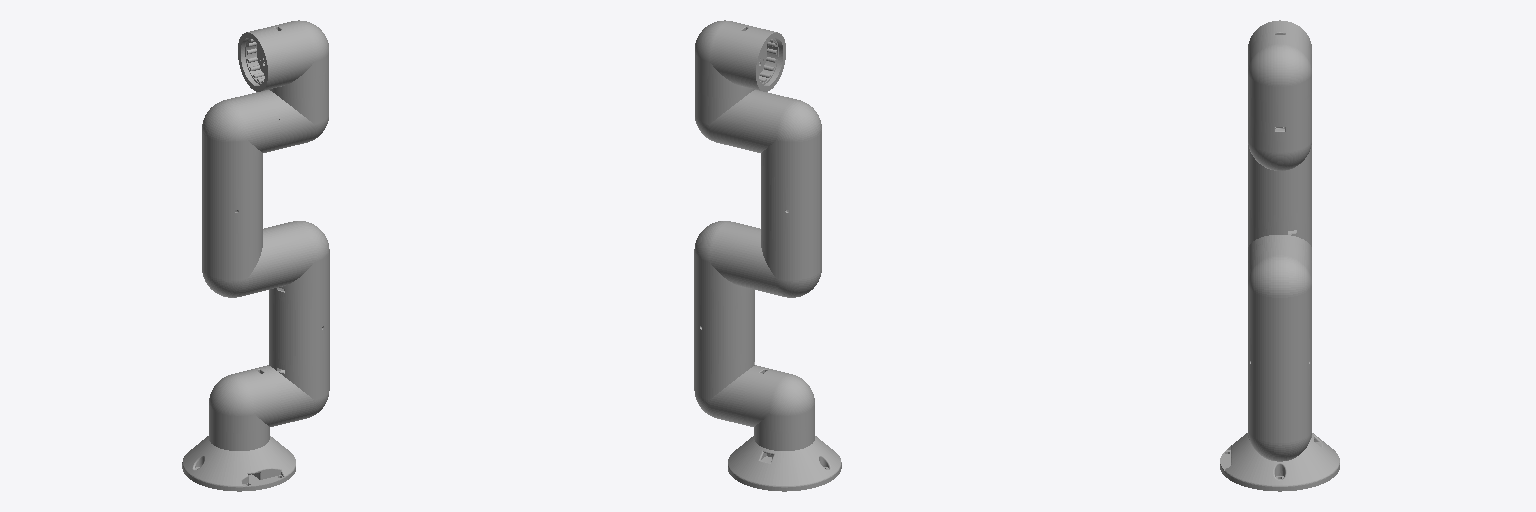
URDF robot description (6dof):
<?xml version="1.0" ?>
<robot name="6dof">

<material name="silver">
  <color rgba="0.700 0.700 0.700 1.000"/>
</material>

<link name="base_link">
  <inertial>
    <origin xyz="0.0005722199975482752 0.004245800700454947 0.016568477430291967" rpy="0 0 0"/>
    <mass value="0.3701294923763933"/>
    <inertia ixx="0.000519" iyy="0.000543" izz="0.000945" ixy="3e-06" iyz="4e-06" ixz="0.0"/>
  </inertial>
  <visual>
    <origin xyz="0 0 0" rpy="0 0 0"/>
    <geometry>
      <mesh filename="package://6dof_description/meshes/base_link.stl" scale="0.001 0.001 0.001"/>
    </geometry>
    <material name="silver"/>
  </visual>
  <collision>
    <origin xyz="0 0 0" rpy="0 0 0"/>
    <geometry>
      <mesh filename="package://6dof_description/meshes/base_link.stl" scale="0.001 0.001 0.001"/>
    </geometry>
  </collision>
</link>

<link name="r_a_1">
  <inertial>
    <origin xyz="0.010425618761527602 0.0009926626669589911 0.03864859993028837" rpy="0 0 0"/>
    <mass value="0.17693816222578793"/>
    <inertia ixx="0.000227" iyy="0.000235" izz="0.00022" ixy="-1e-06" iyz="-1e-06" ixz="-2.3e-05"/>
  </inertial>
  <visual>
    <origin xyz="-0.0 -0.002984 -0.041554" rpy="0 0 0"/>
    <geometry>
      <mesh filename="package://6dof_description/meshes/r_a_1.stl" scale="0.001 0.001 0.001"/>
    </geometry>
    <material name="silver"/>
  </visual>
  <collision>
    <origin xyz="-0.0 -0.002984 -0.041554" rpy="0 0 0"/>
    <geometry>
      <mesh filename="package://6dof_description/meshes/r_a_1.stl" scale="0.001 0.001 0.001"/>
    </geometry>
  </collision>
</link>

<link name="link_1">
  <inertial>
    <origin xyz="0.0362299468747642 1.3495541677207516e-05 0.10093907219024545" rpy="0 0 0"/>
    <mass value="0.42379993240155933"/>
    <inertia ixx="0.003229" iyy="0.003244" izz="0.000556" ixy="0.0" iyz="0.0" ixz="4.5e-05"/>
  </inertial>
  <visual>
    <origin xyz="-0.04 -0.002984 -0.092054" rpy="0 0 0"/>
    <geometry>
      <mesh filename="package://6dof_description/meshes/link_1.stl" scale="0.001 0.001 0.001"/>
    </geometry>
    <material name="silver"/>
  </visual>
  <collision>
    <origin xyz="-0.04 -0.002984 -0.092054" rpy="0 0 0"/>
    <geometry>
      <mesh filename="package://6dof_description/meshes/link_1.stl" scale="0.001 0.001 0.001"/>
    </geometry>
  </collision>
</link>

<link name="link__1__1">
  <inertial>
    <origin xyz="-0.03622994687477521 -1.3274643730027368e-05 0.10093907219023918" rpy="0 0 0"/>
    <mass value="0.42379993240155933"/>
    <inertia ixx="0.003229" iyy="0.003244" izz="0.000556" ixy="0.0" iyz="-0.0" ixz="-4.5e-05"/>
  </inertial>
  <visual>
    <origin xyz="-0.04 -0.002984 -0.292054" rpy="0 0 0"/>
    <geometry>
      <mesh filename="package://6dof_description/meshes/link__1__1.stl" scale="0.001 0.001 0.001"/>
    </geometry>
    <material name="silver"/>
  </visual>
  <collision>
    <origin xyz="-0.04 -0.002984 -0.292054" rpy="0 0 0"/>
    <geometry>
      <mesh filename="package://6dof_description/meshes/link__1__1.stl" scale="0.001 0.001 0.001"/>
    </geometry>
  </collision>
</link>

<link name="r_a__1__1">
  <inertial>
    <origin xyz="0.03864887449338581 -0.0009924417690017292 0.010425344198421005" rpy="0 0 0"/>
    <mass value="0.17693816222578793"/>
    <inertia ixx="0.00022" iyy="0.000235" izz="0.000227" ixy="1e-06" iyz="1e-06" ixz="-2.3e-05"/>
  </inertial>
  <visual>
    <origin xyz="-0.04 -0.002984 -0.492054" rpy="0 0 0"/>
    <geometry>
      <mesh filename="package://6dof_description/meshes/r_a__1__1.stl" scale="0.001 0.001 0.001"/>
    </geometry>
    <material name="silver"/>
  </visual>
  <collision>
    <origin xyz="-0.04 -0.002984 -0.492054" rpy="0 0 0"/>
    <geometry>
      <mesh filename="package://6dof_description/meshes/r_a__1__1.stl" scale="0.001 0.001 0.001"/>
    </geometry>
  </collision>
</link>

<link name="r_a__2__1">
  <inertial>
    <origin xyz="-0.010425618761524535 -0.0009924417689934207 0.03864859993027925" rpy="0 0 0"/>
    <mass value="0.17693816222578793"/>
    <inertia ixx="0.000227" iyy="0.000235" izz="0.00022" ixy="-1e-06" iyz="1e-06" ixz="2.3e-05"/>
  </inertial>
  <visual>
    <origin xyz="-0.0905 -0.002984 -0.532054" rpy="0 0 0"/>
    <geometry>
      <mesh filename="package://6dof_description/meshes/r_a__2__1.stl" scale="0.001 0.001 0.001"/>
    </geometry>
    <material name="silver"/>
  </visual>
  <collision>
    <origin xyz="-0.0905 -0.002984 -0.532054" rpy="0 0 0"/>
    <geometry>
      <mesh filename="package://6dof_description/meshes/r_a__2__1.stl" scale="0.001 0.001 0.001"/>
    </geometry>
  </collision>
</link>

<link name="housing_1">
  <inertial>
    <origin xyz="-0.01354229215039466 1.104489911183705e-07 -2.74563103364045e-07" rpy="0 0 0"/>
    <mass value="0.07053541004202112"/>
    <inertia ixx="8.5e-05" iyy="4.8e-05" izz="4.8e-05" ixy="-0.0" iyz="-0.0" ixz="0.0"/>
  </inertial>
  <visual>
    <origin xyz="-0.0505 -0.002984 -0.582554" rpy="0 0 0"/>
    <geometry>
      <mesh filename="package://6dof_description/meshes/housing_1.stl" scale="0.001 0.001 0.001"/>
    </geometry>
    <material name="silver"/>
  </visual>
  <collision>
    <origin xyz="-0.0505 -0.002984 -0.582554" rpy="0 0 0"/>
    <geometry>
      <mesh filename="package://6dof_description/meshes/housing_1.stl" scale="0.001 0.001 0.001"/>
    </geometry>
  </collision>
</link>

<joint name="Revolute_1" type="revolute">
  <origin xyz="0.0 0.002984 0.041554" rpy="0 0 0"/>
  <parent link="base_link"/>
  <child link="r_a_1"/>
  <axis xyz="0.0 0.0 1.0"/>
  <limit lower="-3.14159" upper="3.14159" effort="10.0" velocity="3.0"/>
</joint>

<joint name="Revolute_2" type="revolute">
  <origin xyz="0.04 0.0 0.0505" rpy="0 0 0"/>
  <parent link="r_a_1"/>
  <child link="link_1"/>
  <axis xyz="1.0 0.0 0.0"/>
  <limit lower="-3.14159" upper="3.14159" effort="10.0" velocity="3.0"/>
</joint>

<joint name="Revolute_3" type="revolute">
  <origin xyz="0.0 0.0 0.2" rpy="0 0 0"/>
  <parent link="link_1"/>
  <child link="link__1__1"/>
  <axis xyz="-1.0 0.0 0.0"/>
  <limit lower="-3.14159" upper="3.14159" effort="10.0" velocity="3.0"/>
</joint>

<joint name="Revolute_4" type="revolute">
  <origin xyz="0.0 0.0 0.2" rpy="0 0 0"/>
  <parent link="link__1__1"/>
  <child link="r_a__1__1"/>
  <axis xyz="1.0 -0.0 -0.0"/>
  <limit lower="-3.14159" upper="3.14159" effort="10.0" velocity="3.0"/>
</joint>

<joint name="Revolute_5" type="revolute">
  <origin xyz="0.0505 0.0 0.04" rpy="0 0 0"/>
  <parent link="r_a__1__1"/>
  <child link="r_a__2__1"/>
  <axis xyz="0.0 0.0 1.0"/>
  <limit lower="-3.14159" upper="3.14159" effort="10.0" velocity="3.0"/>
</joint>

<joint name="Revolute_6" type="revolute">
  <origin xyz="-0.04 0.0 0.0505" rpy="0 0 0"/>
  <parent link="r_a__2__1"/>
  <child link="housing_1"/>
  <axis xyz="-1.0 0.0 -0.0"/>
  <limit lower="-3.14159" upper="3.14159" effort="10.0" velocity="3.0"/>
</joint>

</robot>

--- What the picture shows (computed from the rendered views, not written in the file) ---
Views: 3 orthographic renders of the robot side by side, from view 1: azimuth 30°, elevation 25°; view 2: azimuth 150°, elevation 25°; view 3: azimuth 270°, elevation 25°.
Robot: 6dof — 7 links, 6 joints (6 revolute); root link base_link; default pose: every joint at zero.
Visible links, largest first — view 1: link__1__1, link_1, r_a_1, base_link, r_a__2__1, housing_1, r_a__1__1; view 2: link__1__1, link_1, r_a_1, base_link, r_a__2__1, housing_1, r_a__1__1; view 3: link_1, r_a__2__1, link__1__1, base_link, r_a__1__1, housing_1.
Link boxes in pixels (left/top/right/bottom): link__1__1: left=202, top=92, right=280, bottom=297; link_1: left=261, top=221, right=329, bottom=425; r_a_1: left=209, top=367, right=280, bottom=450; base_link: left=182, top=436, right=295, bottom=491; r_a__2__1: left=257, top=20, right=328, bottom=98; housing_1: left=238, top=28, right=287, bottom=91; r_a__1__1: left=261, top=89, right=328, bottom=150; link__1__1: left=743, top=92, right=821, bottom=297; link_1: left=694, top=221, right=762, bottom=425; r_a_1: left=743, top=367, right=814, bottom=450; base_link: left=728, top=436, right=841, bottom=491; r_a__2__1: left=695, top=20, right=766, bottom=98; housing_1: left=736, top=28, right=785, bottom=91; r_a__1__1: left=695, top=89, right=762, bottom=150; link_1: left=1248, top=238, right=1311, bottom=461; r_a__2__1: left=1248, top=31, right=1311, bottom=122; link__1__1: left=1248, top=127, right=1311, bottom=261; base_link: left=1220, top=433, right=1339, bottom=491; r_a__1__1: left=1248, top=112, right=1311, bottom=170; housing_1: left=1248, top=20, right=1311, bottom=53.
Size in the robot's own frame: 0.2056 by 0.15 by 0.623 metres.
7 mesh visuals loaded from 7 distinct referenced files (7 binary STL).
